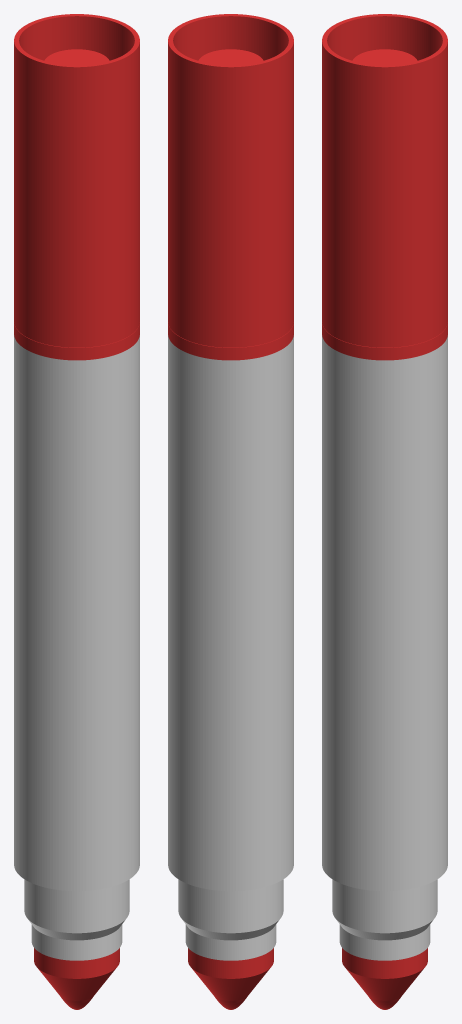
The model's file is marker_2.glb.
3 renders of one model, left to right at view 1: azimuth 90°, elevation 25°; view 2: azimuth 210°, elevation 25°; view 3: azimuth 270°, elevation 25°, orthographic.
Visible parts, largest first — view 1: Marker, Cap; view 2: Marker, Cap; view 3: Marker, Cap.
Boxes of the visible parts, <box> form: Marker: <box>14,323,139,1009</box>; Cap: <box>14,14,139,347</box>; Marker: <box>168,323,293,1009</box>; Cap: <box>168,14,293,347</box>; Marker: <box>322,323,447,1009</box>; Cap: <box>322,14,447,347</box>.
Bounding box in the file's own units: 2 × 16.98 × 2.
